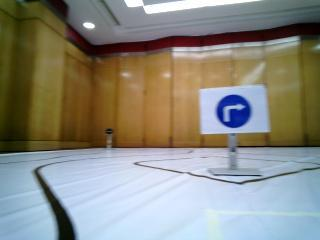right: (204, 89, 266, 130)
